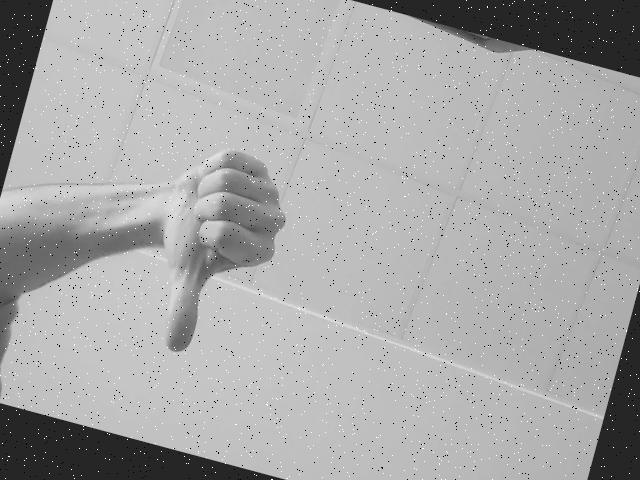bad: (122, 117, 318, 390)
